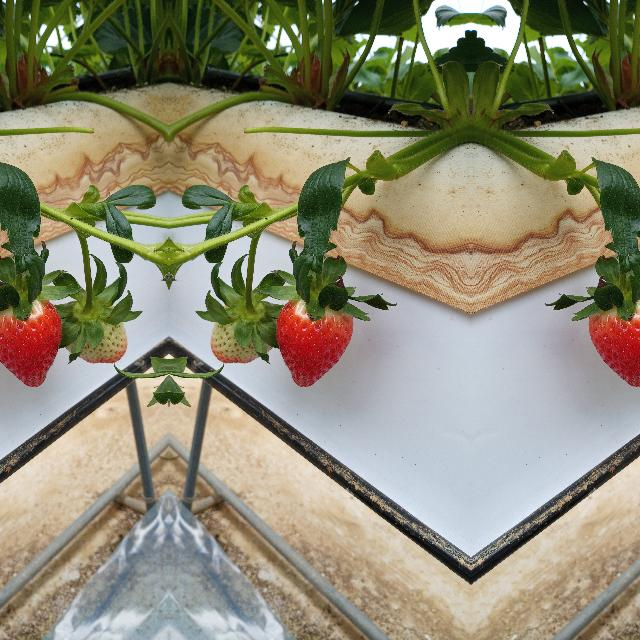Health_100: (274, 299, 354, 386), (0, 299, 61, 386), (587, 299, 640, 386)
Health_50: (210, 298, 266, 376), (70, 298, 126, 376)
